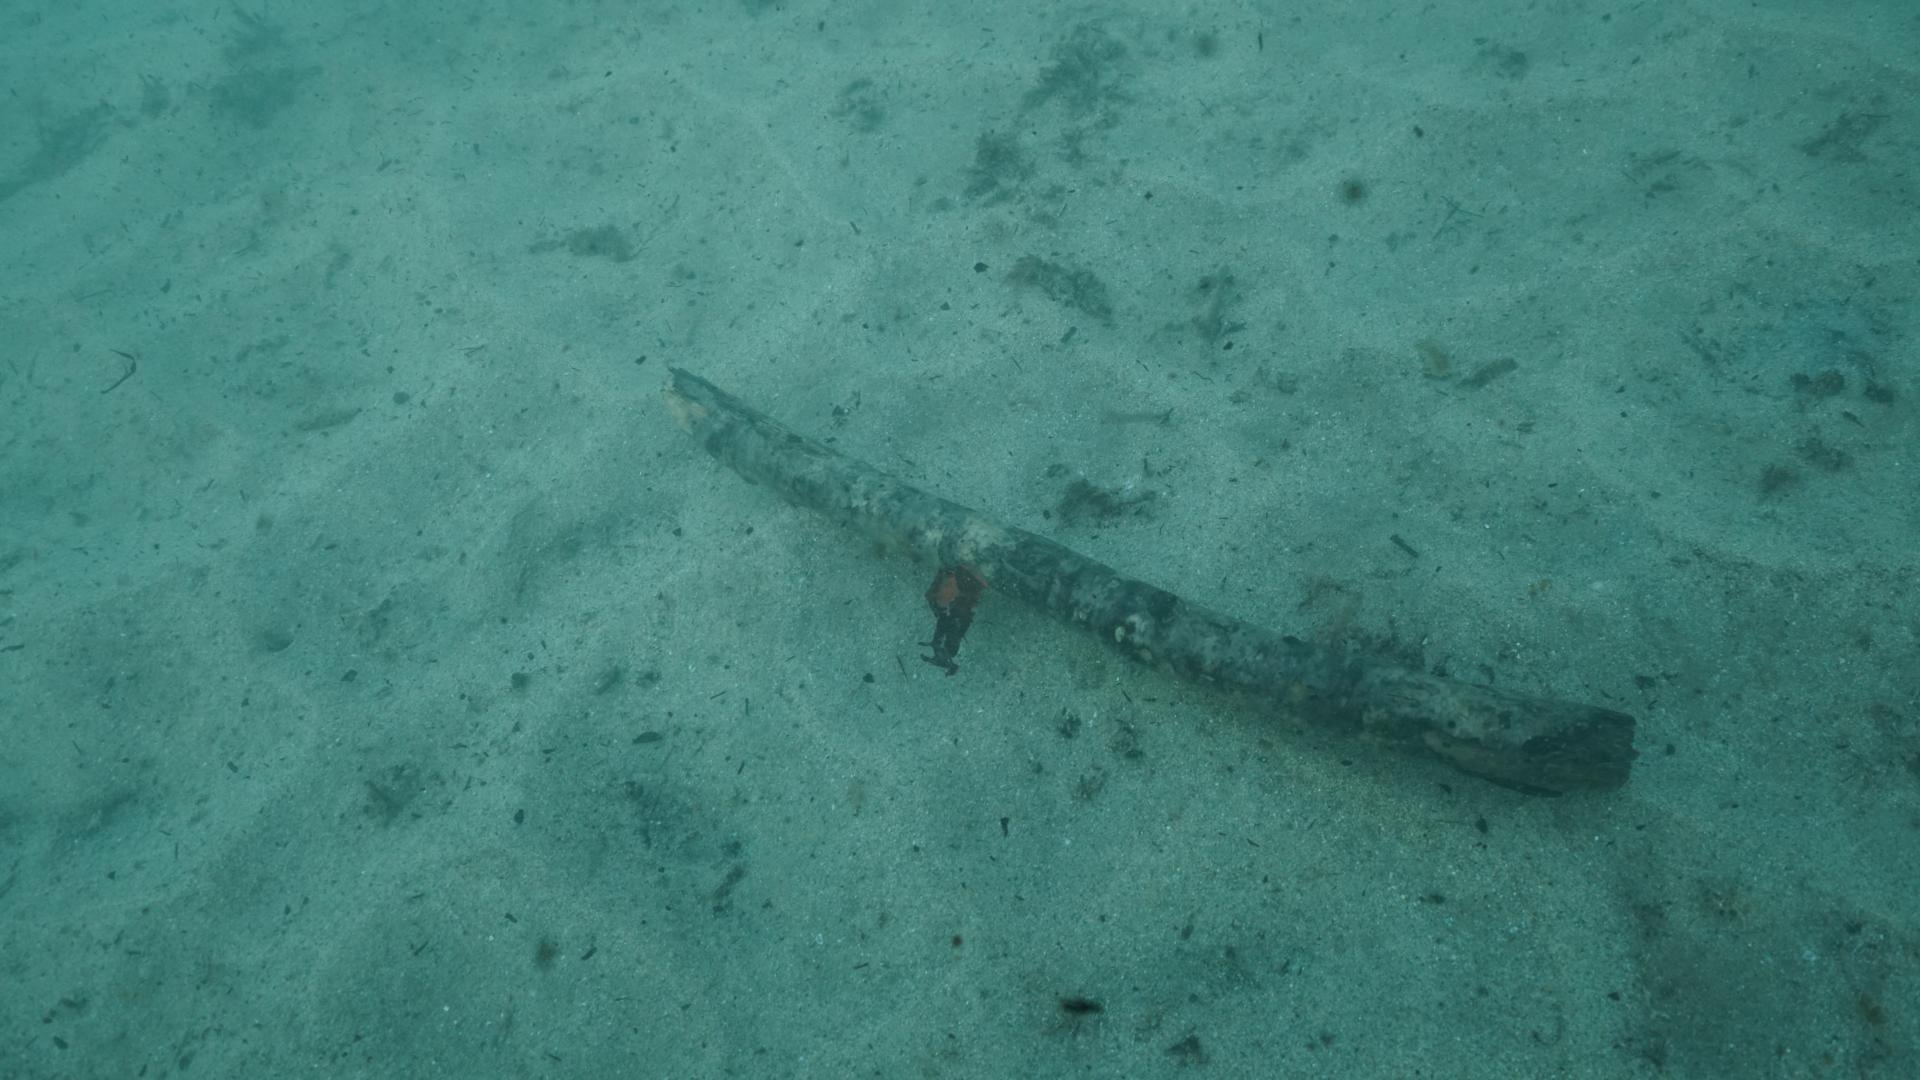wood: (670, 365, 1636, 790)
